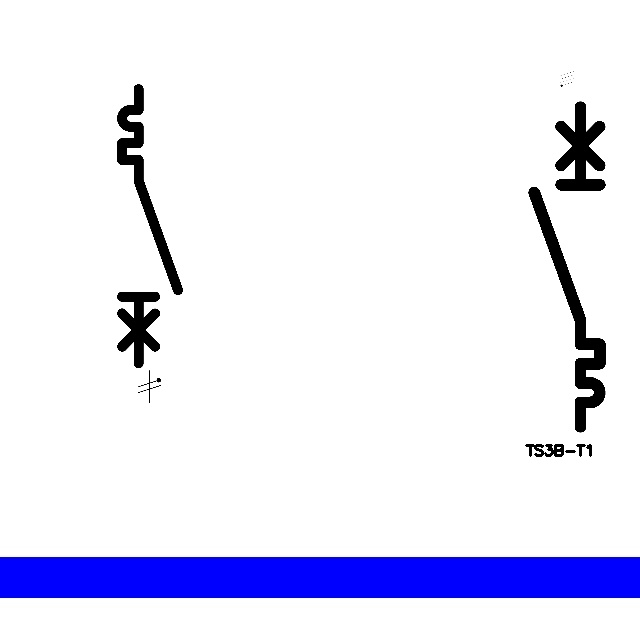interruptor_termomagnetico: (526, 99, 608, 435), (115, 82, 185, 370)
